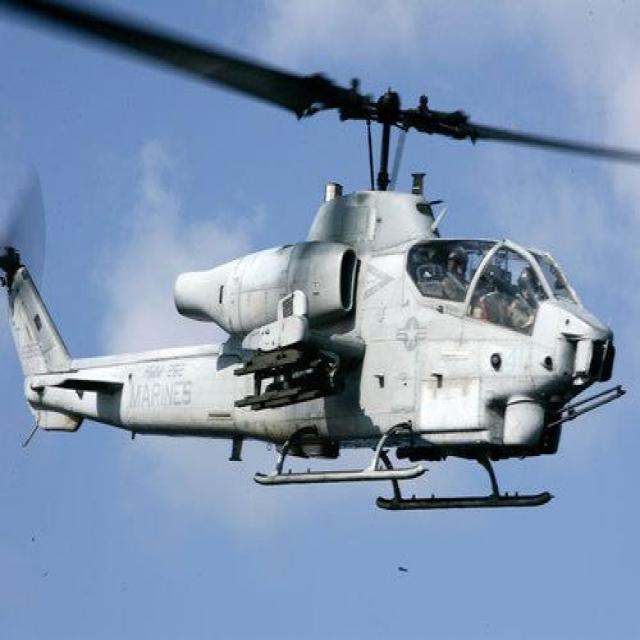MIL_HELO: (0, 0, 632, 513)
